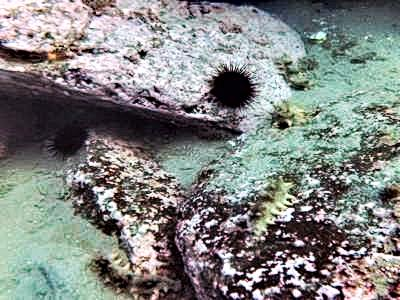urchin: (209, 63, 255, 107), (50, 125, 84, 150)
